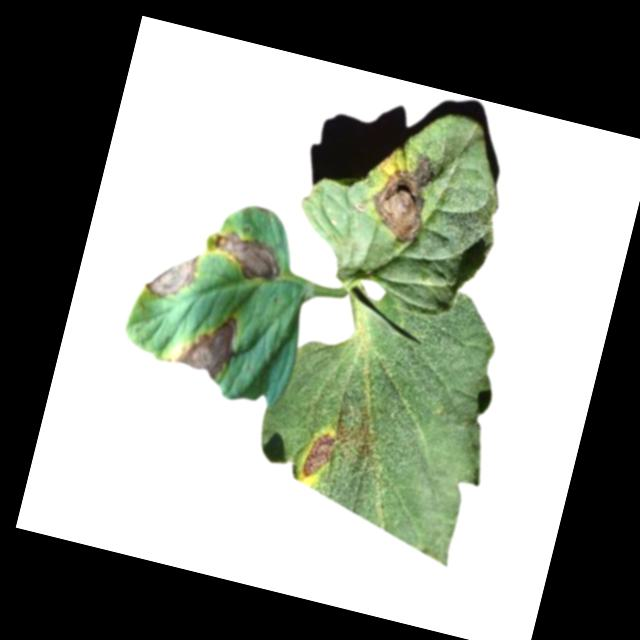Early_blight: (362, 146, 444, 250), (204, 225, 287, 288), (174, 307, 241, 384), (141, 245, 201, 304), (298, 428, 338, 482)
